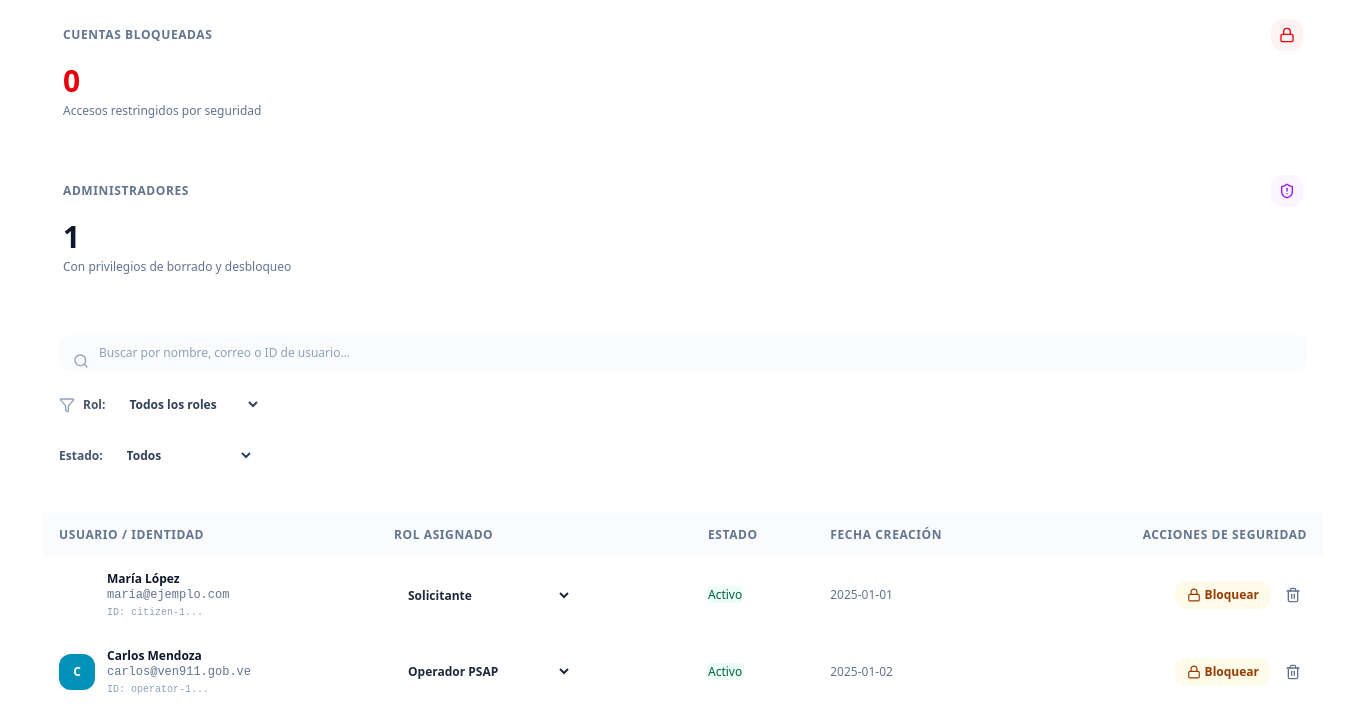
Test: Admin Users Page UI Component › allows searching users by name or email
(page scrolled)
Check: the text "María López" is shown, box [107,570,180,587]
Type "María" into the field named "buscar usuarios" at (683, 353), box [59,335,1307,371]
(page scrolled)
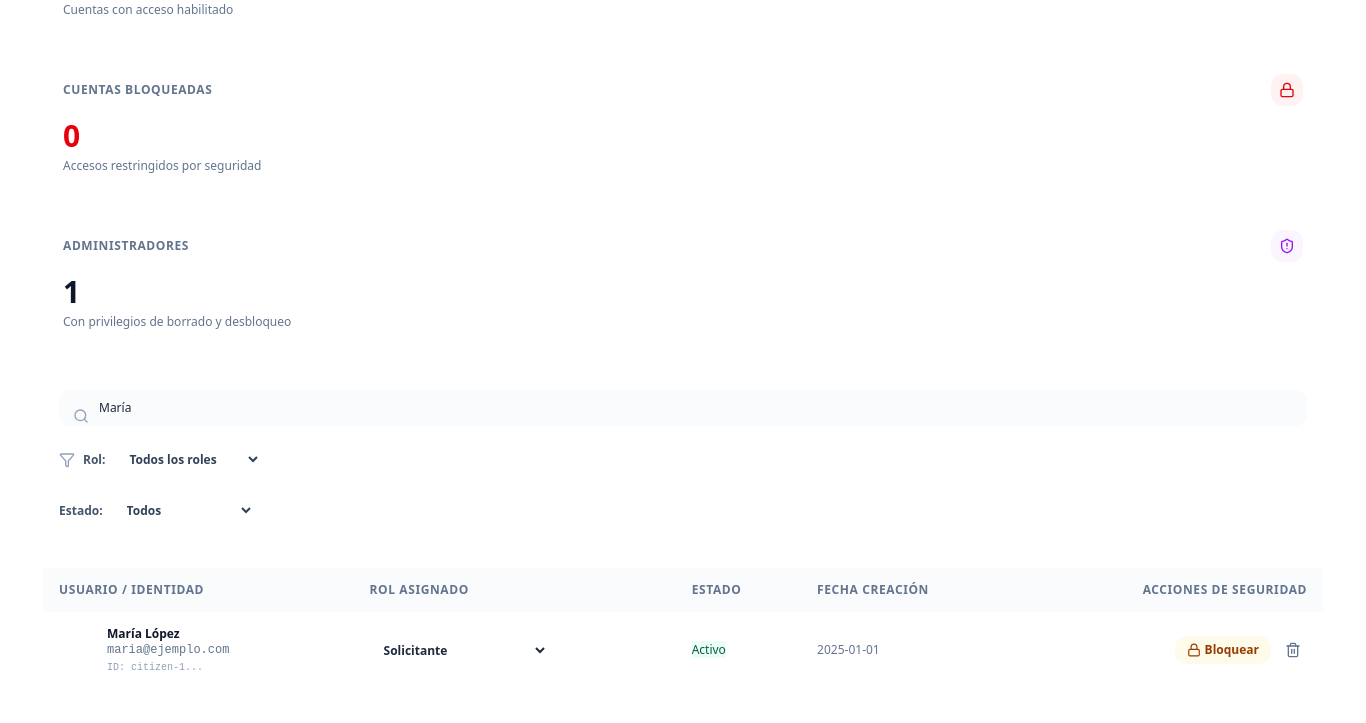
Check: the text "María López" is shown, box [107,625,180,642]
Check: the text "Carlos Mendoza" is gone
